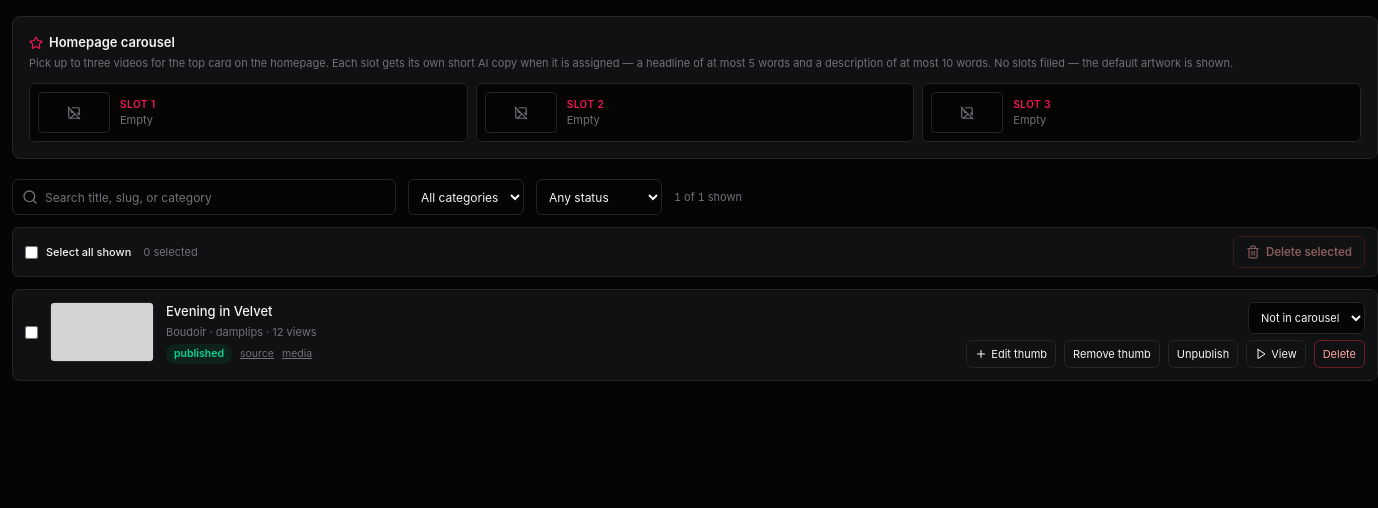
it: VideoManager — categories, select all, carousel, bulk actions › warns when the copy had to fall back to the listing text
Select "Slot 1" in the dropdown named "Homepage carousel slot for Evening in Velvet" at (1306, 318), box [1248, 302, 1365, 334]
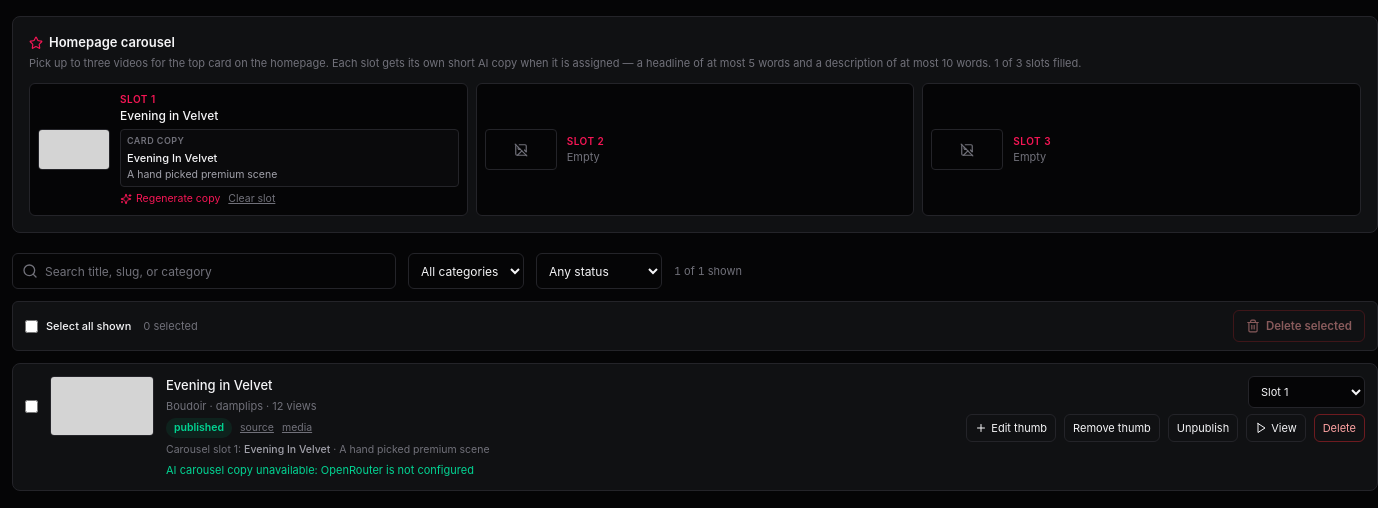
Now the text "AI carousel copy unavailable: OpenRouter is not configured" is shown, box [166, 463, 474, 477]
